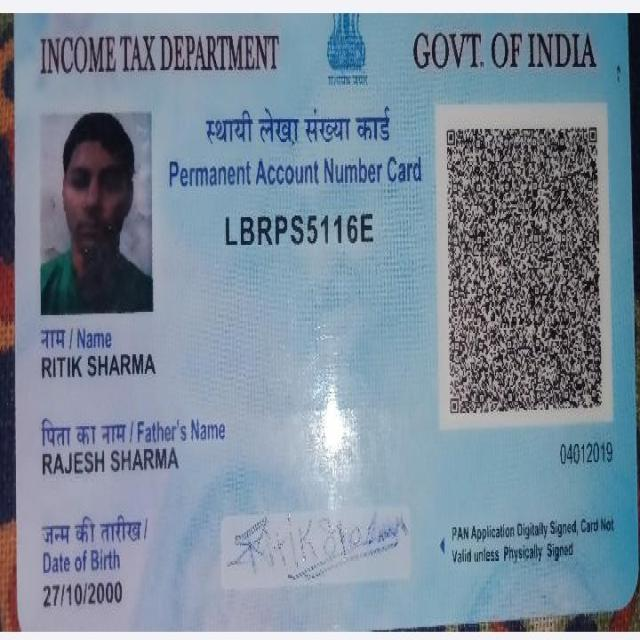pan_card: (15, 13, 634, 633)
